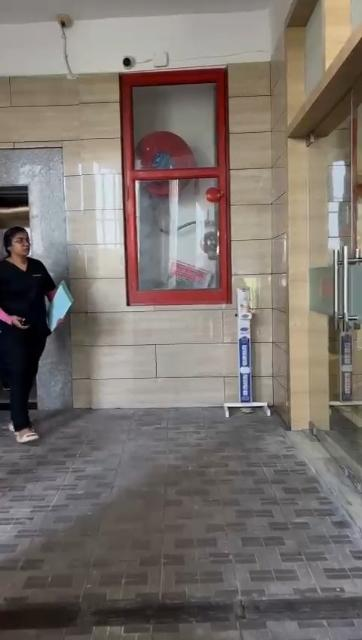door: (308, 140, 362, 432)
floor: (0, 415, 362, 635)
moving-obj: (2, 222, 74, 470)
wall: (70, 146, 124, 412), (231, 64, 283, 284), (121, 313, 233, 403), (0, 78, 117, 144)
